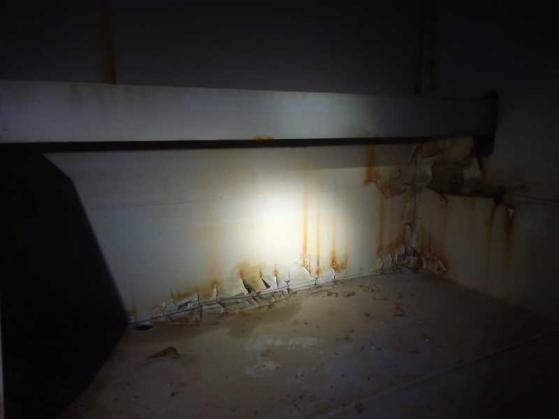corrosion: (363, 194, 447, 271), (418, 139, 506, 202), (292, 203, 351, 286), (172, 269, 290, 303), (479, 203, 523, 273), (349, 144, 393, 199)
